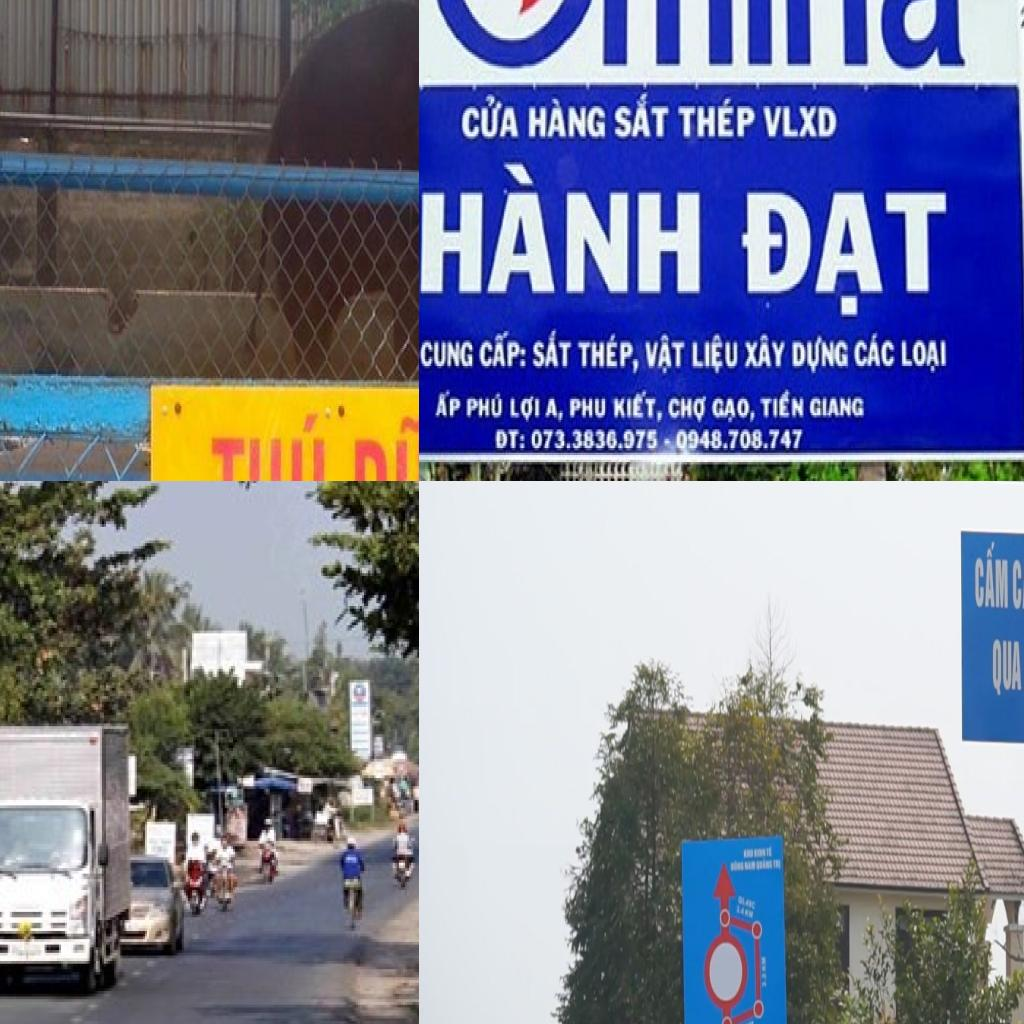text: (419, 0, 984, 89), (419, 143, 707, 307), (734, 181, 952, 321), (204, 406, 330, 481), (524, 83, 612, 148), (347, 405, 419, 481), (671, 87, 760, 146), (612, 85, 677, 155), (529, 424, 662, 458), (757, 96, 844, 146), (456, 90, 523, 146), (577, 328, 646, 382), (790, 331, 852, 380), (973, 541, 1010, 616), (690, 328, 741, 382), (896, 333, 953, 378), (478, 324, 527, 375), (642, 331, 688, 385), (611, 387, 666, 429), (991, 634, 1024, 703), (419, 335, 478, 373), (530, 324, 574, 373), (742, 331, 791, 375), (851, 331, 899, 375), (709, 392, 760, 429), (759, 387, 808, 425), (808, 394, 868, 422), (666, 392, 709, 429), (465, 390, 507, 424), (569, 394, 608, 425), (434, 387, 465, 425), (509, 392, 542, 427), (492, 427, 529, 457), (1011, 544, 1024, 615), (542, 394, 569, 427), (756, 857, 773, 872), (730, 861, 744, 873), (743, 861, 757, 872), (754, 847, 766, 859), (743, 848, 754, 860), (773, 859, 782, 872), (766, 846, 774, 858)
